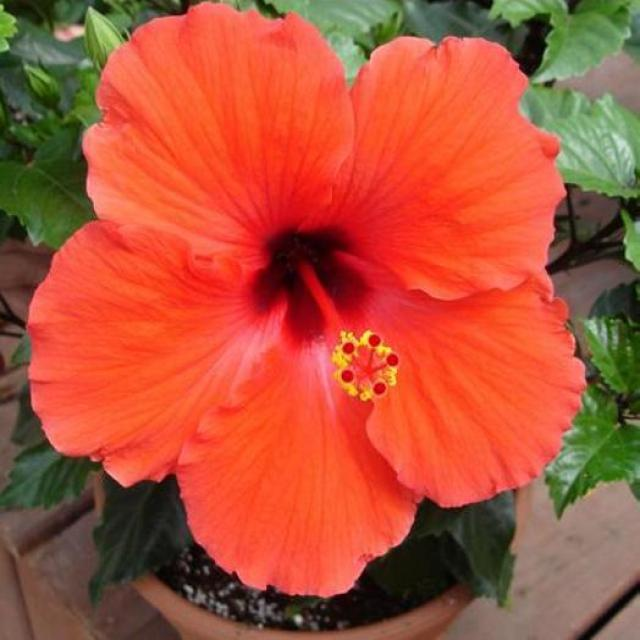hibiscus: (16, 0, 640, 624)
